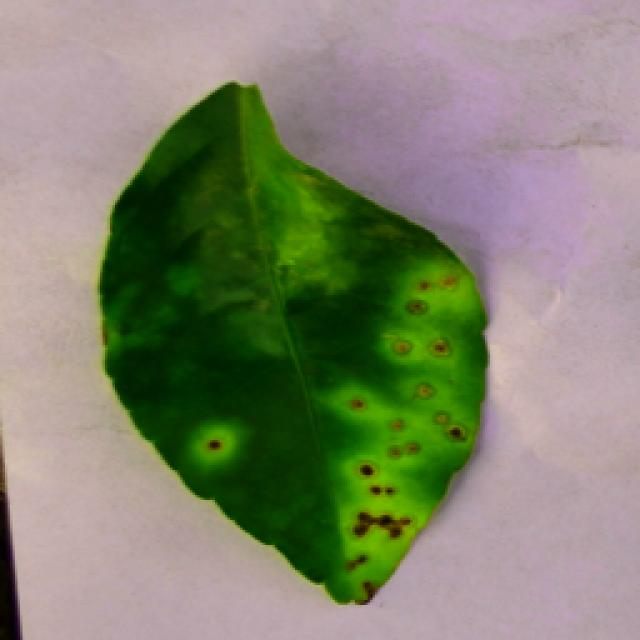canker: (126, 165, 480, 615)
